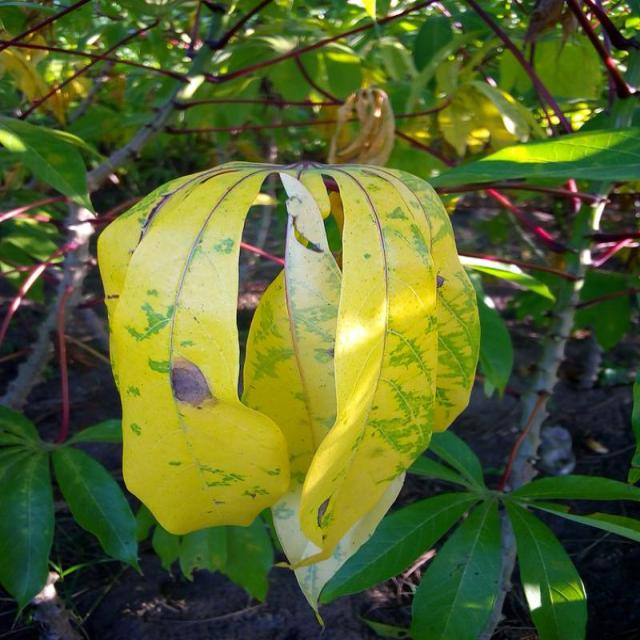cassava leaf: (97, 158, 482, 623)
